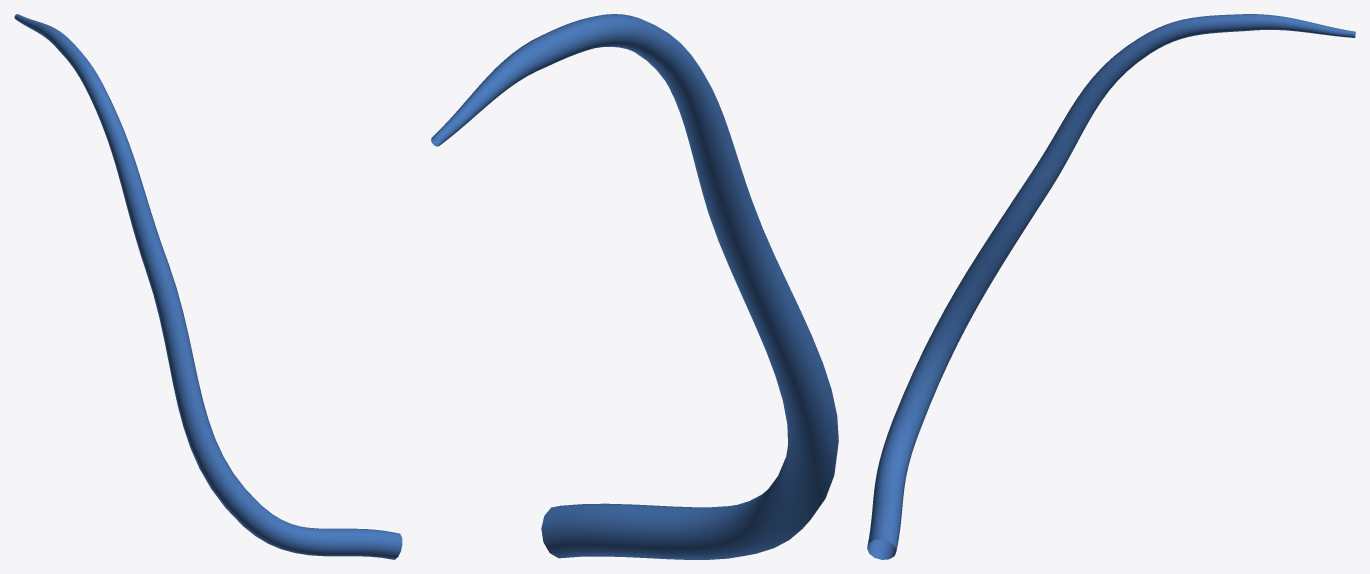
3 views of the same model, side by side, from view 1: azimuth 30°, elevation 25°; view 2: azimuth 150°, elevation 25°; view 3: azimuth 270°, elevation 25° (orthographic). The views are drawn at different scales.
Parts seen in each view (by area): view 1: 左侧骶外侧静脉; view 2: 左侧骶外侧静脉; view 3: 左侧骶外侧静脉.
Part boxes in pixels (x1=…): 左侧骶外侧静脉: x1=14, y1=14, x2=402, y2=559; 左侧骶外侧静脉: x1=431, y1=14, x2=838, y2=559; 左侧骶外侧静脉: x1=867, y1=14, x2=1355, y2=559.
Size of the model in its own units: 0.0311 by 0.0708 by 0.0676.
